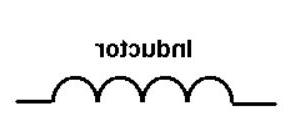inductor: (48, 58, 242, 118)
